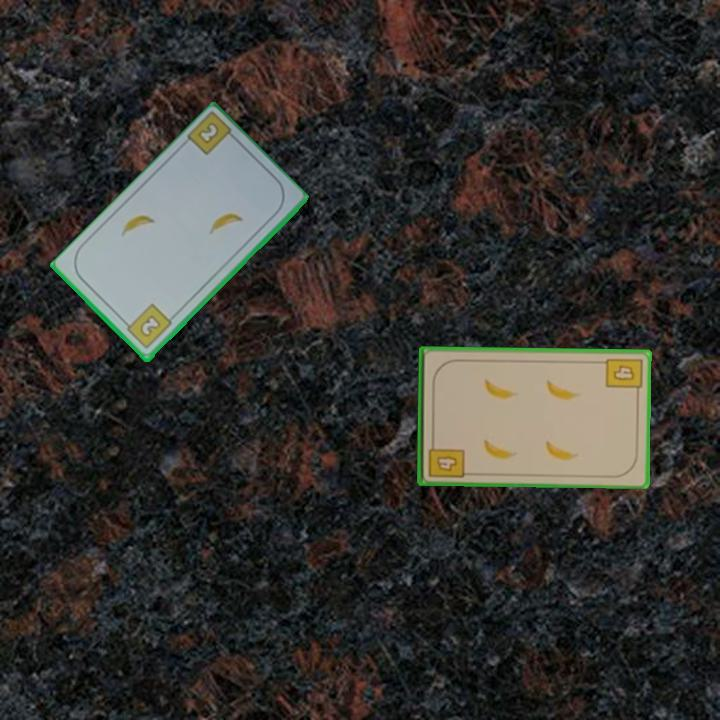2b: (183, 110, 241, 159), (120, 301, 175, 352)
4b: (424, 436, 467, 481), (602, 355, 645, 398)
